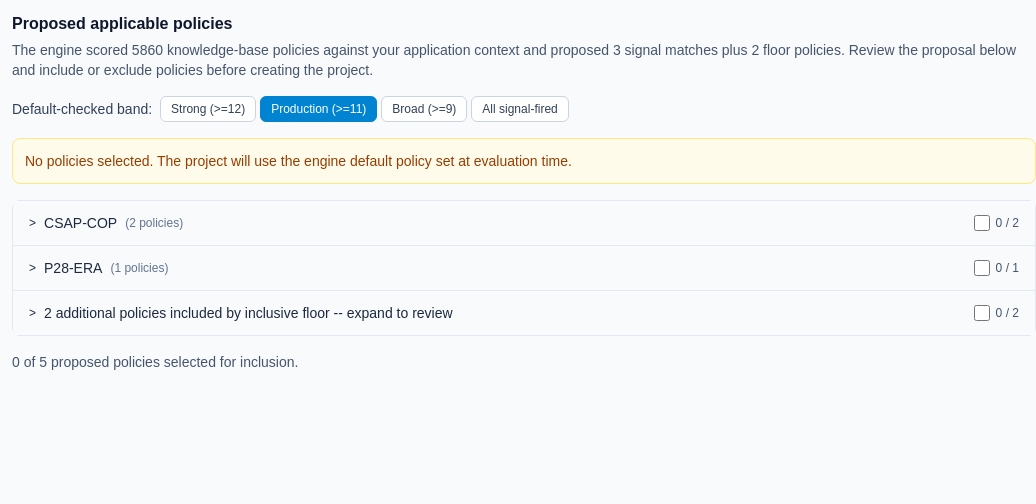
it: ApplicablePolicyStep › expanding a group renders its rows
// Click the CSAP-COP group button.
Click the button "> CSAP-COP (2 policies)" at (81, 223), box [29,213,966,233]
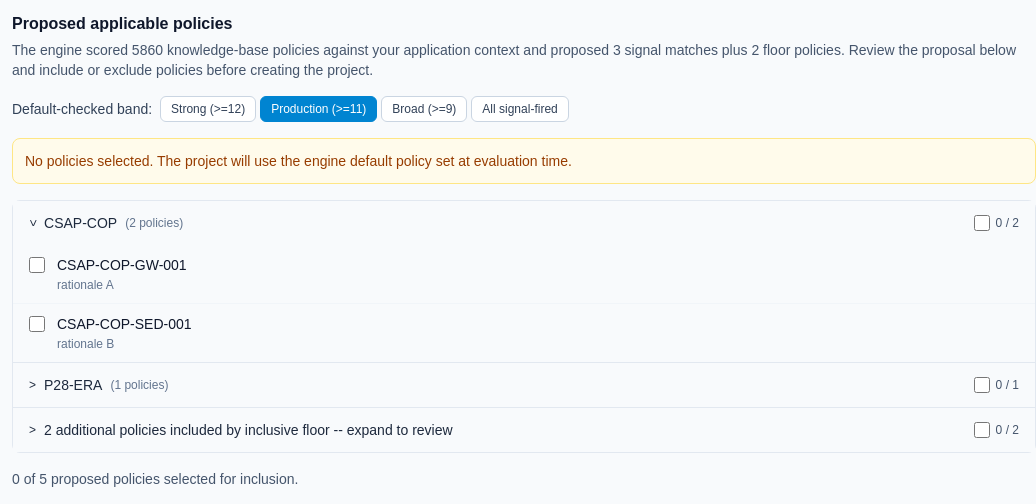
Now the text "CSAP-COP-GW-001" is shown, box [57,257,187,273]
Now the text "CSAP-COP-SED-001" is shown, box [57,316,192,332]
